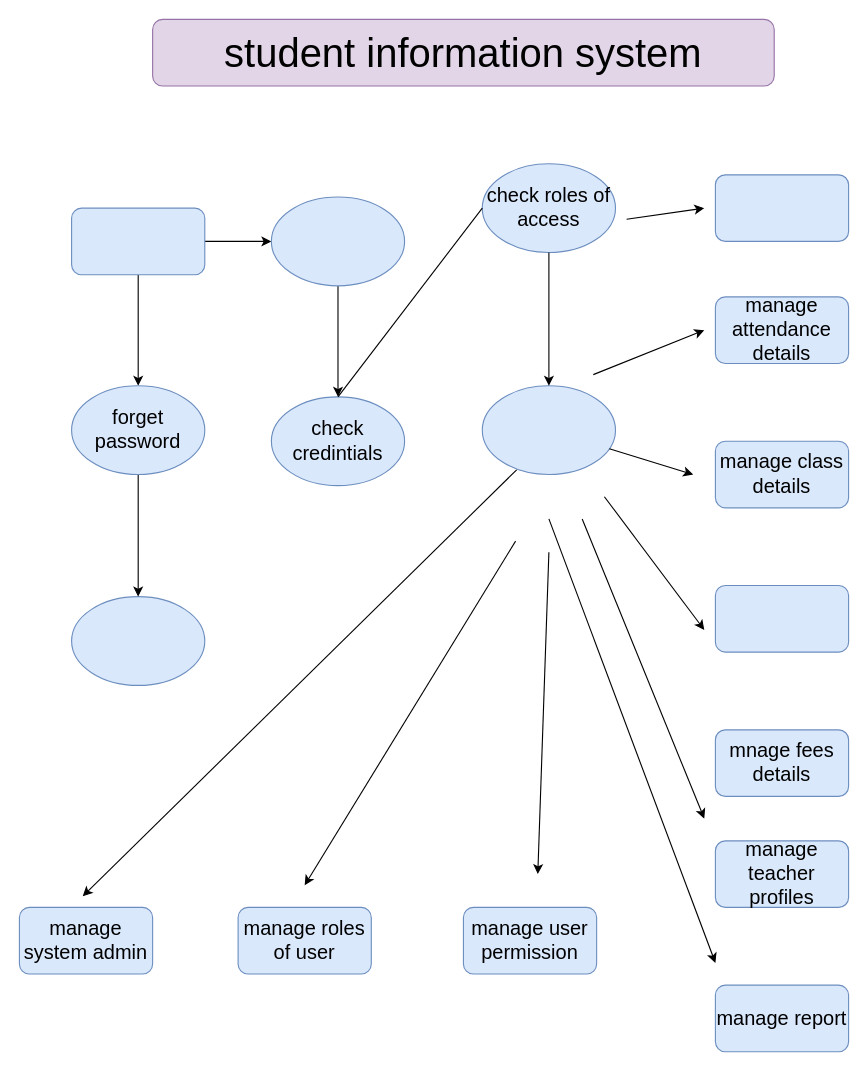
Image size: 868x1071. Some labels were removed from this diagram. The shapes that lost their labels are listed below. From the top down, each one's centre as x and y in pixels, then its label:
pixel 781 207: manage timetable details
pixel 137 241: admin
pixel 337 241: login to system
pixel 548 430: manage modukes
pixel 781 618: manage student details
pixel 137 640: send email to user
